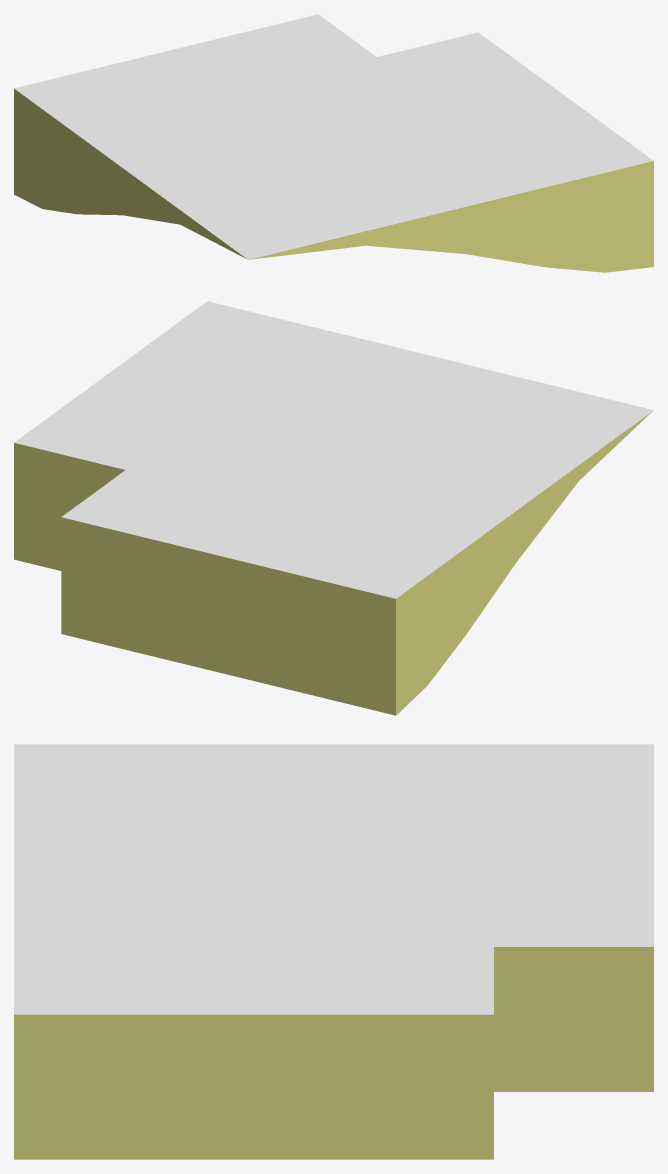
The model's file is Ceiling_Curve_Inner_4x4.glb.
3 renders of one model, top to bottom at view 1: azimuth 30°, elevation 25°; view 2: azimuth 150°, elevation 25°; view 3: azimuth 270°, elevation 25°, orthographic. The views are drawn at different scales.
Visible parts, largest first — view 1: Ceiling_Curve_Inner_4x4; view 2: Ceiling_Curve_Inner_4x4; view 3: Ceiling_Curve_Inner_4x4.
Part boxes in pixels (<box>): Ceiling_Curve_Inner_4x4: <box>14,14,653,272</box>; Ceiling_Curve_Inner_4x4: <box>14,301,653,715</box>; Ceiling_Curve_Inner_4x4: <box>14,744,653,1159</box>.
Size of the model in its own units: 400 by 100 by 400.
